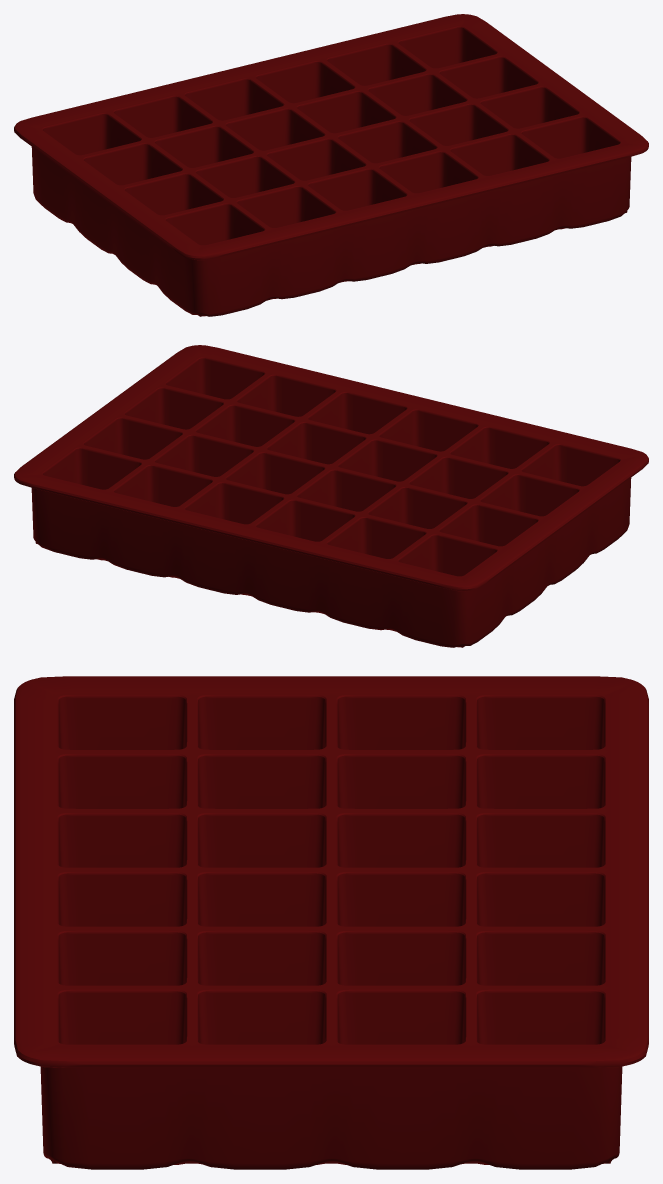
The picture shows the model from 3 angles, top to bottom: view 1: azimuth 30°, elevation 25°; view 2: azimuth 150°, elevation 25°; view 3: azimuth 270°, elevation 25°; orthographic projection. The views are drawn at different scales.
Parts seen in each view (by area): view 1: part_000_Molded_tray_body; view 2: part_000_Molded_tray_body; view 3: part_000_Molded_tray_body.
Boxes of the visible parts, bbox=[...] form: part_000_Molded_tray_body: bbox=[14, 14, 648, 316]; part_000_Molded_tray_body: bbox=[14, 345, 648, 647]; part_000_Molded_tray_body: bbox=[14, 676, 648, 1169].
Size of the model in its own units: 0.19 by 0.0285 by 0.132.
